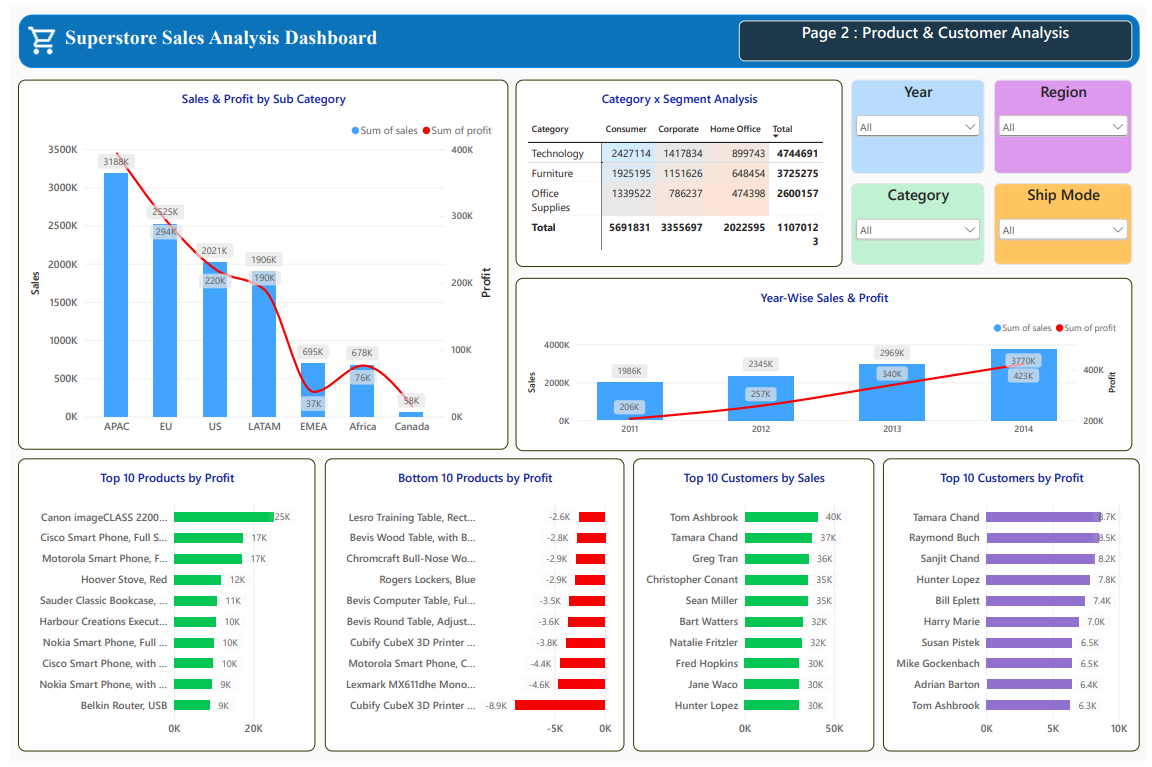

What the dashboard file says about the page in this screenshot:
{"tool":"powerbi","page":{"name":"Page 2","canvas":[1536,1024],"ordinal":1},"visuals":[{"type":"shape","box":[10.7,12.5,1516.1,71],"z":0},{"type":"image","box":[21.7,20,42.9,55.4],"z":1000},{"type":"barChart","title":"Top 10 Products by Profit","fields":{"Y":["Sum(Superstore_Cleaned.profit)"],"Category":["Superstore_Cleaned.product_name"]},"box":[10,611.7,401.7,396.7],"z":2000},{"type":"barChart","title":"Bottom 10 Products by Profit","fields":{"Y":["Sum(Superstore_Cleaned.profit)"],"Category":["Superstore_Cleaned.product_name"]},"box":[425,611.7,405,396.7],"z":3000},{"type":"lineClusteredColumnComboChart","title":"Sales & Profit by Sub Category","fields":{"Y":["Sum(Superstore_Cleaned.sales)"],"Y2":["Sum(Superstore_Cleaned.profit)"],"Category":["Superstore_Cleaned.market"]},"box":[10,100,663.3,500],"z":4000},{"type":"pivotTable","title":"Category x Segment Analysis","fields":{"Values":["Sum(Superstore_Cleaned.sales)"],"Rows":["Superstore_Cleaned.category"],"Columns":["Superstore_Cleaned.segment"]},"box":[683.3,100,441.7,253.3],"z":5000},{"type":"barChart","title":"Top 10 Customers by Sales","fields":{"Category":["Superstore_Cleaned.customer_name"],"Y":["Sum(Superstore_Cleaned.sales)"]},"box":[841.7,611.7,326.8,396.4],"z":6000},{"type":"barChart","title":"Top 10 Customers by Profit","fields":{"Y":["Sum(Superstore_Cleaned.profit)"],"Category":["Superstore_Cleaned.customer_name"]},"box":[1180,611.7,346.7,396.7],"z":7000},{"type":"lineClusteredColumnComboChart","title":"Year-Wise Sales & Profit","fields":{"Y":["Sum(Superstore_Cleaned.sales)"],"Y2":["Sum(Superstore_Cleaned.profit)"],"Category":["Superstore_Cleaned.year"]},"box":[683.3,368.3,833.3,233.3],"z":8000},{"type":"slicer","title":"Year","fields":{"Values":["Superstore_Cleaned.year"]},"box":[1136.7,100,180,126.7],"z":9000},{"type":"slicer","title":"Region","fields":{"Values":["Superstore_Cleaned.region"]},"box":[1330,100,186.7,126.7],"z":10000},{"type":"slicer","title":"Category","fields":{"Values":["Superstore_Cleaned.category"]},"box":[1136.7,240,180,110],"z":11000},{"type":"slicer","title":"Ship Mode","fields":{"Values":["Superstore_Cleaned.ship_mode"]},"box":[1330,240,186.7,110],"z":12000},{"type":"textbox","box":[43.3,28.3,483.3,55],"z":13000},{"type":"textbox","box":[985,20,531.7,55],"z":14000}]}

Visuals, with their boxes in screenshot pixels (x1, y1, x2, y2), scaled from the page's 1536x1024 canvas onto the 1152x767 screenshot:
shape: {"left": 8, "top": 9, "right": 1145, "bottom": 63}
image: {"left": 16, "top": 15, "right": 48, "bottom": 56}
"Top 10 Products by Profit" barChart: {"left": 8, "top": 458, "right": 309, "bottom": 755}
"Bottom 10 Products by Profit" barChart: {"left": 319, "top": 458, "right": 622, "bottom": 755}
"Sales & Profit by Sub Category" lineClusteredColumnComboChart: {"left": 8, "top": 75, "right": 505, "bottom": 449}
"Category x Segment Analysis" pivotTable: {"left": 512, "top": 75, "right": 844, "bottom": 265}
"Top 10 Customers by Sales" barChart: {"left": 631, "top": 458, "right": 876, "bottom": 755}
"Top 10 Customers by Profit" barChart: {"left": 885, "top": 458, "right": 1145, "bottom": 755}
"Year-Wise Sales & Profit" lineClusteredColumnComboChart: {"left": 512, "top": 276, "right": 1137, "bottom": 451}
"Year" slicer: {"left": 853, "top": 75, "right": 988, "bottom": 170}
"Region" slicer: {"left": 998, "top": 75, "right": 1138, "bottom": 170}
"Category" slicer: {"left": 853, "top": 180, "right": 988, "bottom": 262}
"Ship Mode" slicer: {"left": 998, "top": 180, "right": 1138, "bottom": 262}
textbox: {"left": 32, "top": 21, "right": 395, "bottom": 62}
textbox: {"left": 739, "top": 15, "right": 1138, "bottom": 56}
